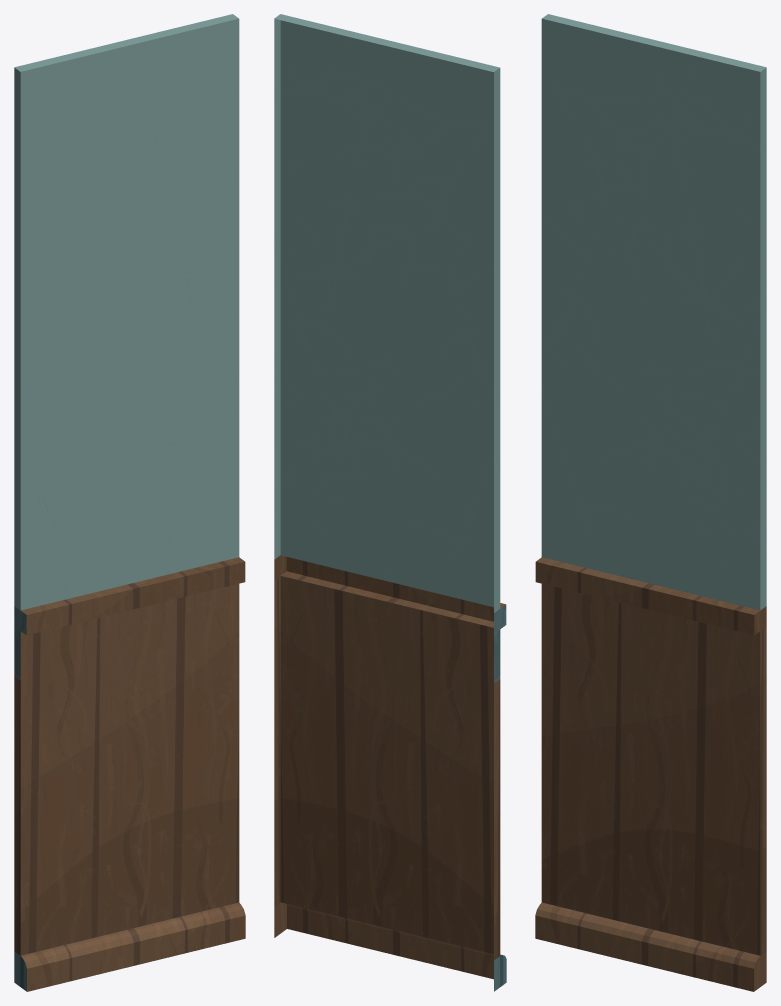
Rendered from Wall - 4x1.fbx.
3 renders of one model, left to right at view 1: azimuth 30°, elevation 25°; view 2: azimuth 150°, elevation 25°; view 3: azimuth 330°, elevation 25°, orthographic.
Visible parts, largest first — view 1: Simple Wall 4x1; view 2: Simple Wall 4x1; view 3: Simple Wall 4x1.
Boxes of the visible parts, x1,y1,x2,y2 form: Simple Wall 4x1: (14, 14, 245, 991); Simple Wall 4x1: (274, 14, 506, 991); Simple Wall 4x1: (535, 14, 766, 991).
Size of the model in its own units: 39.37 by 157 by 4.02.
